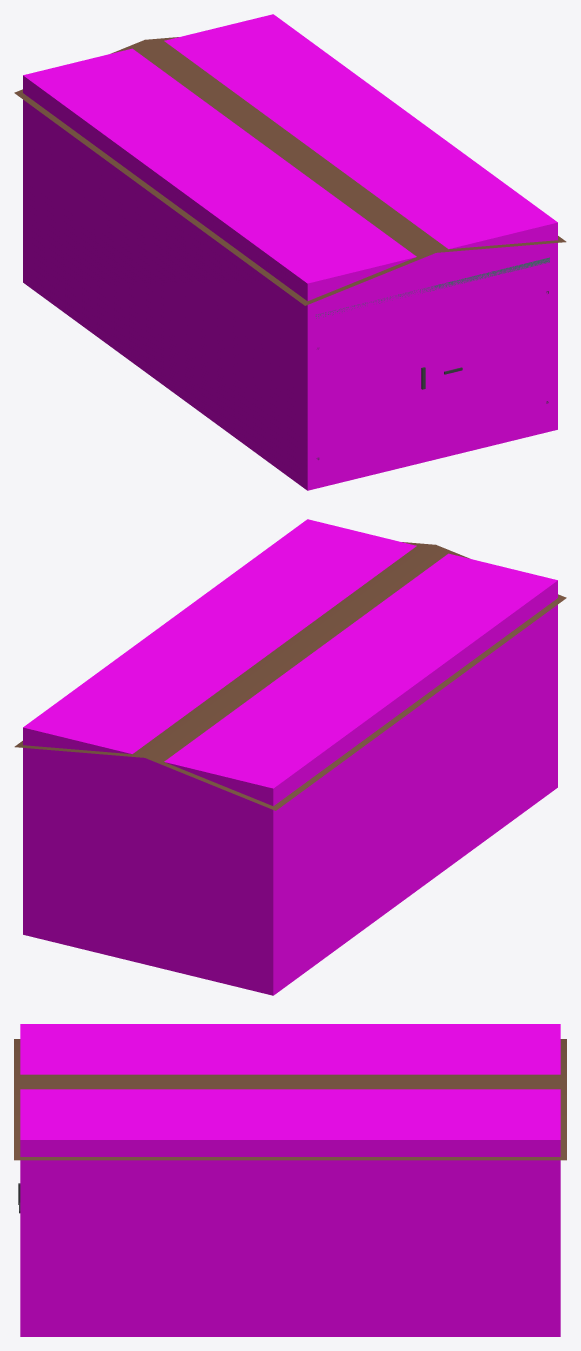
File: EN_Yard_Garage_Teal.fbx
3 renders of one model, top to bottom at view 1: azimuth 30°, elevation 25°; view 2: azimuth 150°, elevation 25°; view 3: azimuth 270°, elevation 25°, orthographic. The views are drawn at different scales.
Parts seen in each view (by area): view 1: COL_Body, EN_Yard_Garage_Teal_Mesh; view 2: COL_Body, EN_Yard_Garage_Teal_Mesh; view 3: COL_Body, EN_Yard_Garage_Teal_Mesh.
Part boxes in pixels (x1,y1,x2,y2): COL_Body: (23, 14, 557, 490); EN_Yard_Garage_Teal_Mesh: (14, 37, 566, 459); COL_Body: (23, 519, 557, 995); EN_Yard_Garage_Teal_Mesh: (14, 542, 566, 810); COL_Body: (20, 1024, 560, 1336); EN_Yard_Garage_Teal_Mesh: (14, 1039, 566, 1213).
Size of the model in its own units: 3.24 by 2.48 by 6.24.
